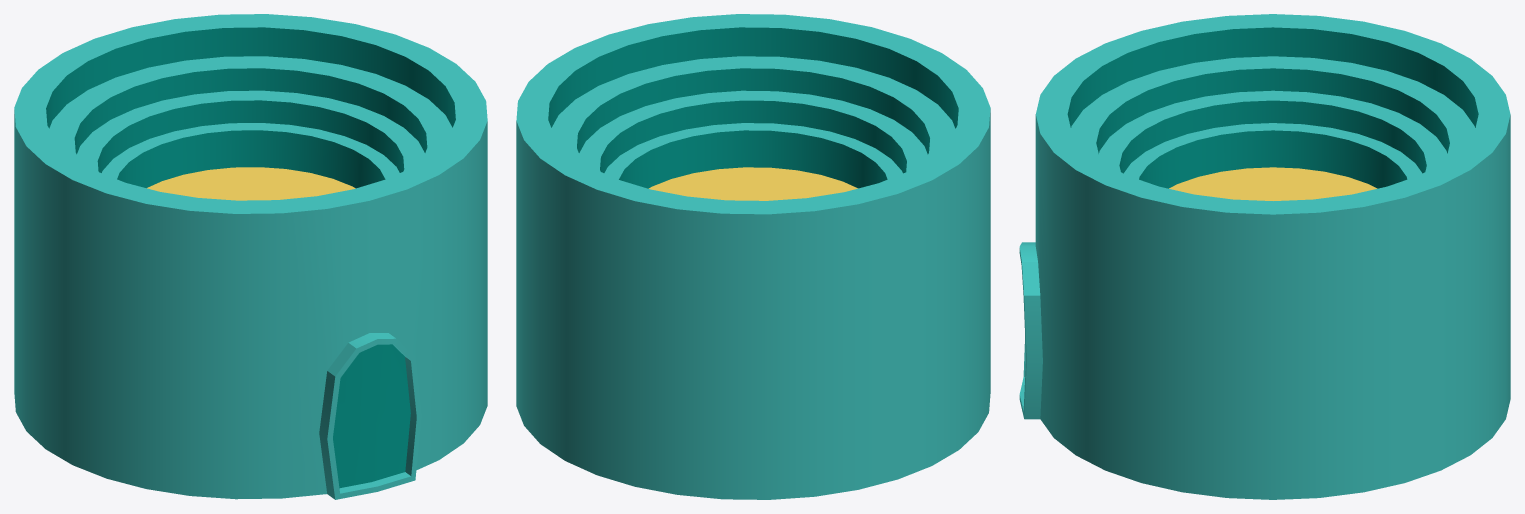
The model's file is Area.fbx.
3 renders of one model, left to right at view 1: azimuth 30°, elevation 25°; view 2: azimuth 150°, elevation 25°; view 3: azimuth 270°, elevation 25°, orthographic.
Parts seen in each view (by area): view 1: Cylinder; view 2: Cylinder; view 3: Cylinder.
Boxes of the visible parts, bbox=[...] form: Cylinder: bbox=[14, 14, 487, 499]; Cylinder: bbox=[516, 14, 990, 499]; Cylinder: bbox=[1019, 14, 1510, 499].
Size of the model in its own units: 665 by 441 by 688.
